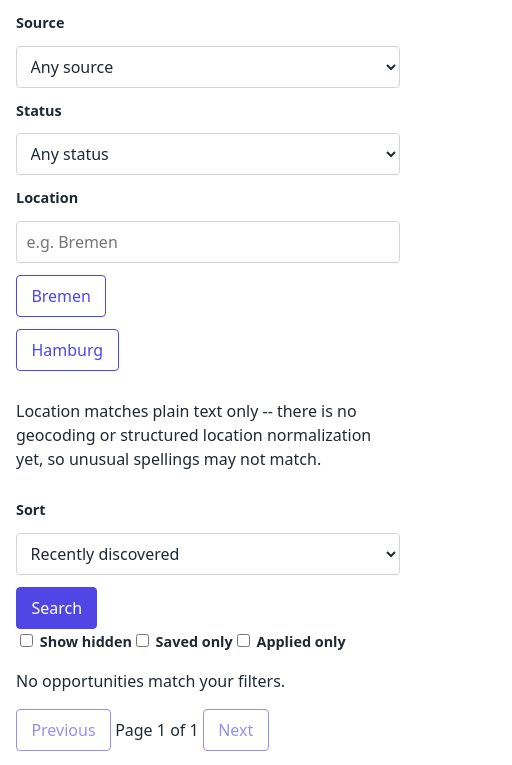
Test: OpportunityListPage › excludes hidden opportunities server-side (before pagination), not by filtering an already-paginated page in React
(page scrolled)
Expected: the text "No opportunities match your filters." is shown, [16,670,285,692]
Click the checkbox labelled "Show hidden": click(26, 640) [20,634,33,647]
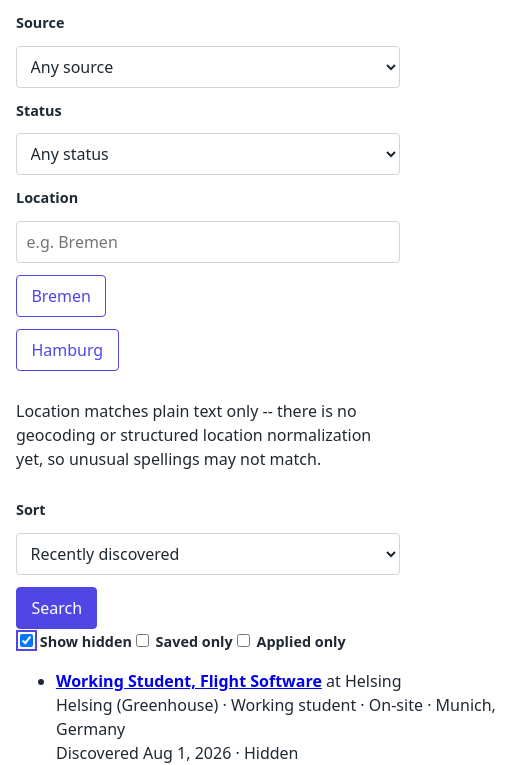
Expected: the text "Working Student, Flight Software" is shown, [56,670,322,692]
